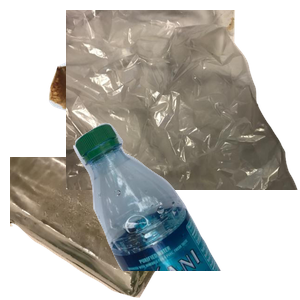cardboard: (46, 40, 226, 179)
glass: (10, 157, 190, 300)
plastic: (71, 120, 300, 300)
trash: (66, 10, 300, 190)
